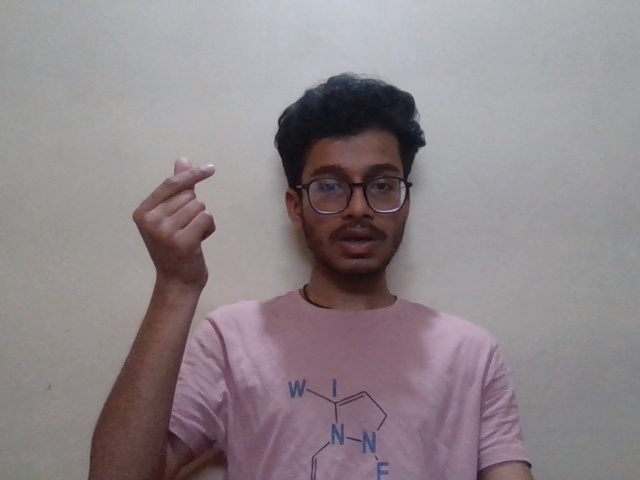J: (122, 151, 240, 303)
